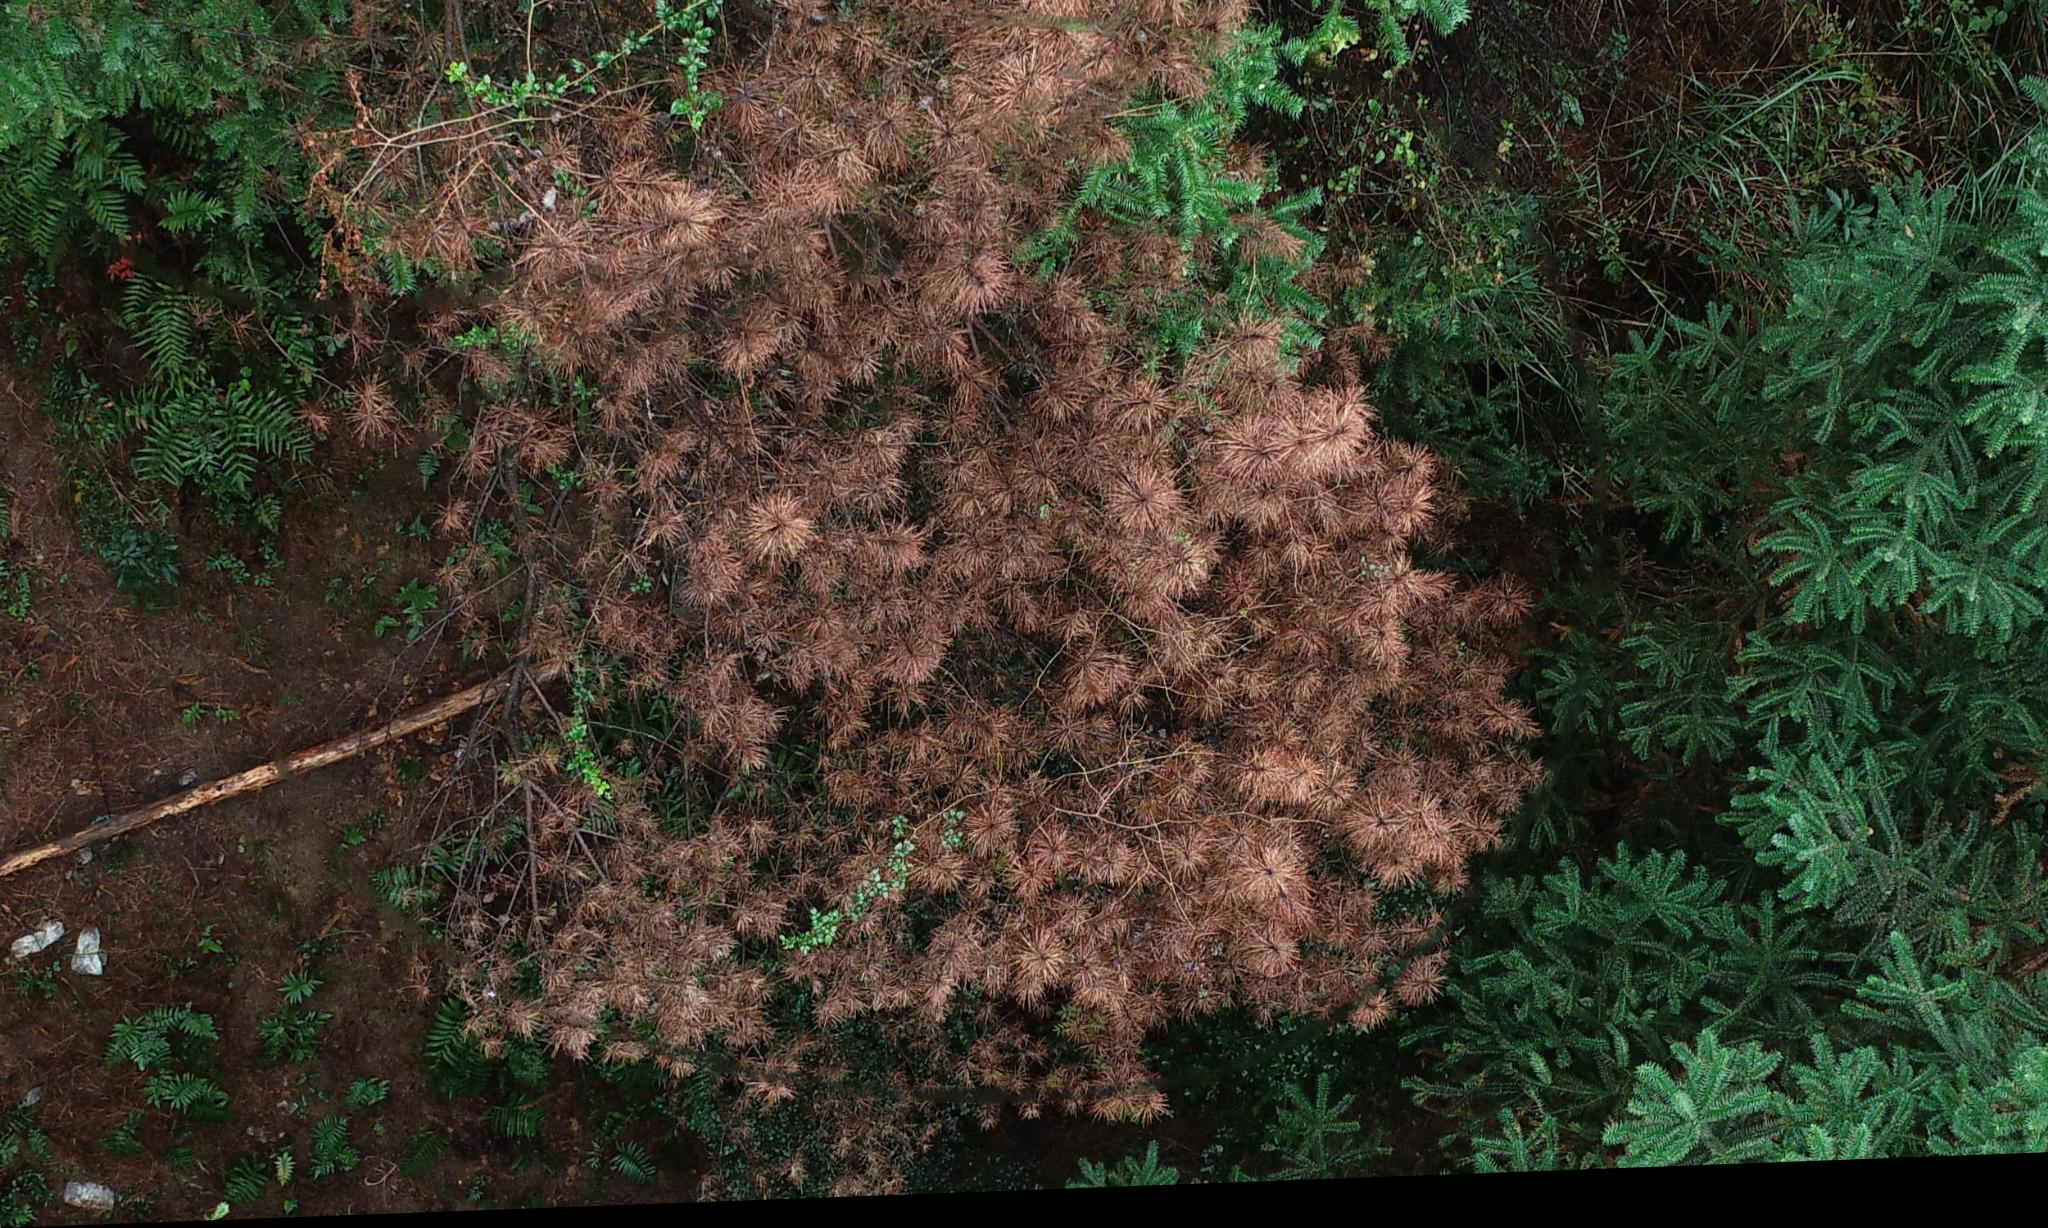heavy: (360, 0, 1510, 1108)
